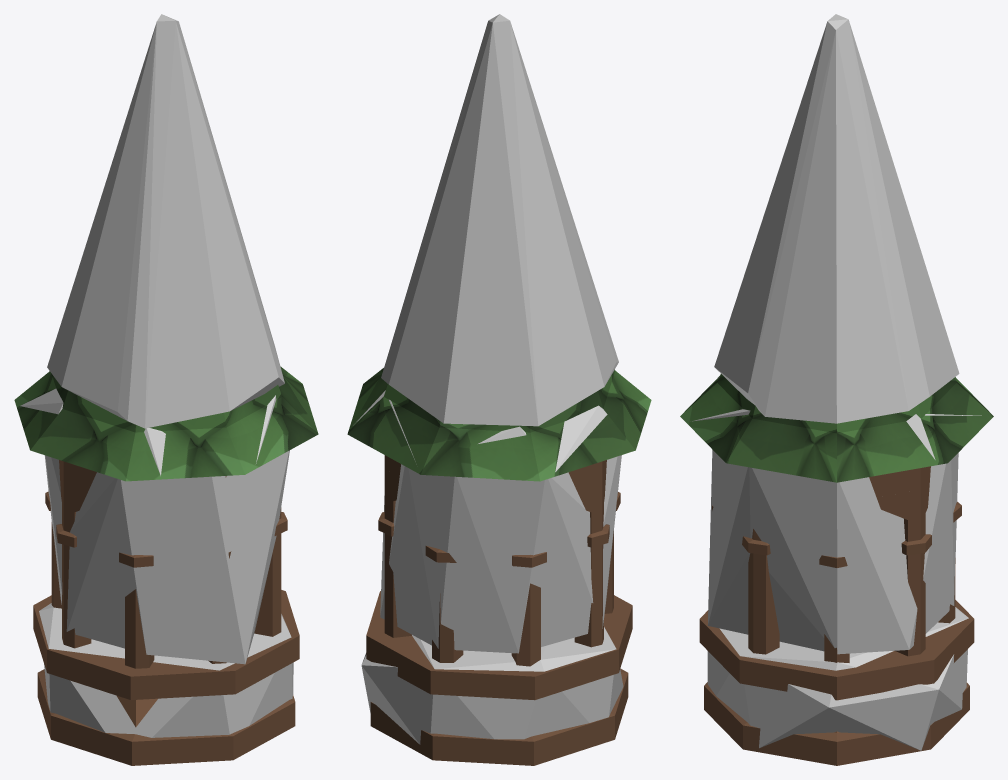
File: SM_Bld_Roof_Tower_03.fbx
3 views of the same model, side by side, from view 1: azimuth 30°, elevation 25°; view 2: azimuth 150°, elevation 25°; view 3: azimuth 270°, elevation 25° (orthographic).
Visible parts, largest first — view 1: SM_Bld_Roof_Tower_03_ConvexHulls, SM_Bld_Roof_Tower_03; view 2: SM_Bld_Roof_Tower_03_ConvexHulls, SM_Bld_Roof_Tower_03; view 3: SM_Bld_Roof_Tower_03_ConvexHulls, SM_Bld_Roof_Tower_03.
Boxes of the visible parts, x1,y1,x2,y2 form: SM_Bld_Roof_Tower_03_ConvexHulls: (20,14,293,737); SM_Bld_Roof_Tower_03: (14,366,318,765); SM_Bld_Roof_Tower_03_ConvexHulls: (353,14,623,744); SM_Bld_Roof_Tower_03: (347,368,651,765); SM_Bld_Roof_Tower_03_ConvexHulls: (692,14,981,750); SM_Bld_Roof_Tower_03: (680,374,993,765).
Bounding box in the file's own units: 257 × 257 × 625.
Materials: 3 (2 with a texture image).
